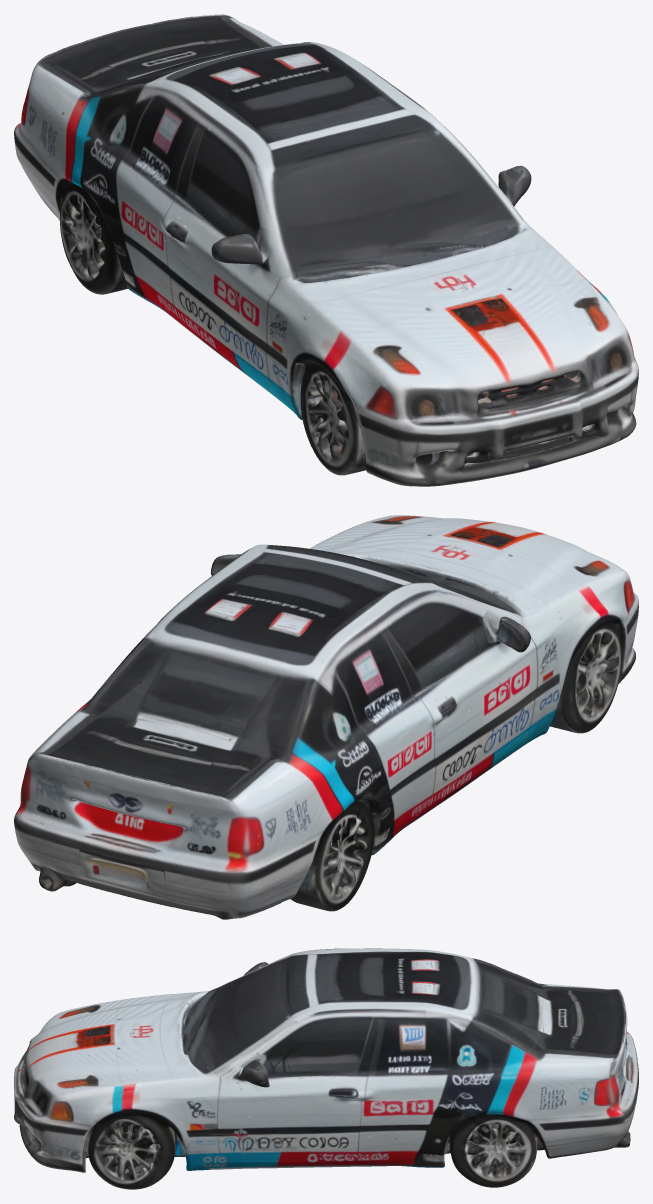
Rendered from rally-car_1762785728051.glb.
3 views of the same model, one above another, from view 1: azimuth 30°, elevation 25°; view 2: azimuth 150°, elevation 25°; view 3: azimuth 270°, elevation 25° (orthographic). The views are drawn at different scales.
Size of the model in its own units: 0.8676 by 0.5954 by 2.
1 material, 1 textured.
